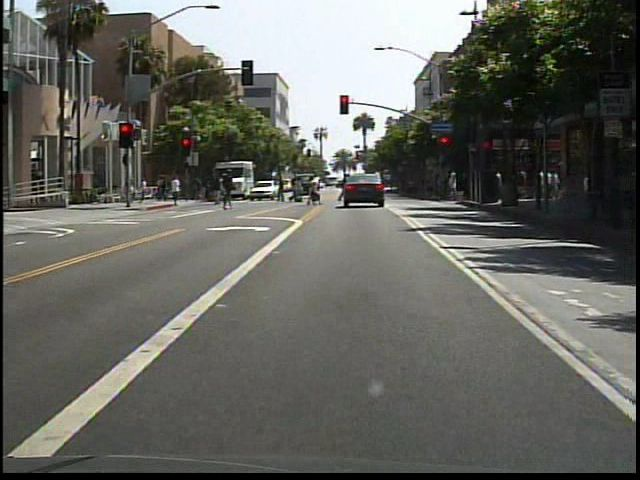person: (356, 164, 377, 209), (218, 171, 240, 213), (305, 174, 323, 209), (169, 176, 186, 210)
